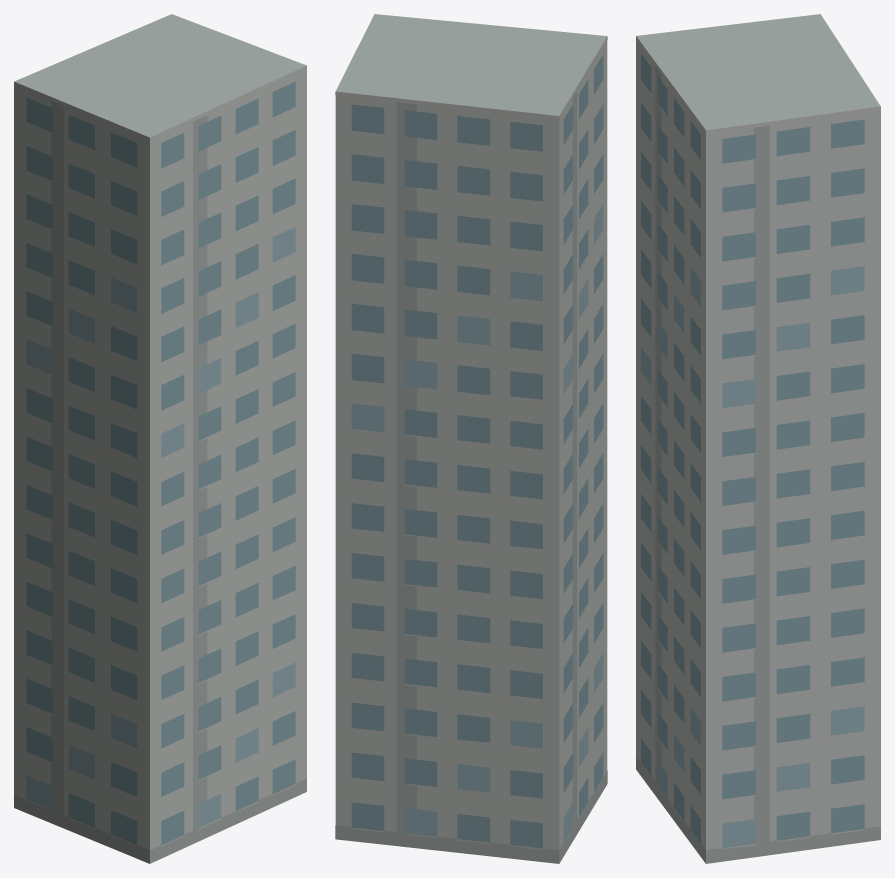
File: survey-upis-32858836.glb
3 views of the same model, side by side, from view 1: azimuth 30°, elevation 25°; view 2: azimuth 150°, elevation 25°; view 3: azimuth 270°, elevation 25° (orthographic). The views are drawn at different scales.
Parts seen in each view (by area): view 1: survey-upis-32858836.tmp; view 2: survey-upis-32858836.tmp; view 3: survey-upis-32858836.tmp.
Boxes of the visible parts, left/top/right/bottom form: survey-upis-32858836.tmp: left=14, top=14, right=306, bottom=863; survey-upis-32858836.tmp: left=335, top=14, right=607, bottom=863; survey-upis-32858836.tmp: left=636, top=14, right=880, bottom=863.
Bounding box in the file's own units: 15.58 × 45.75 × 13.84.
